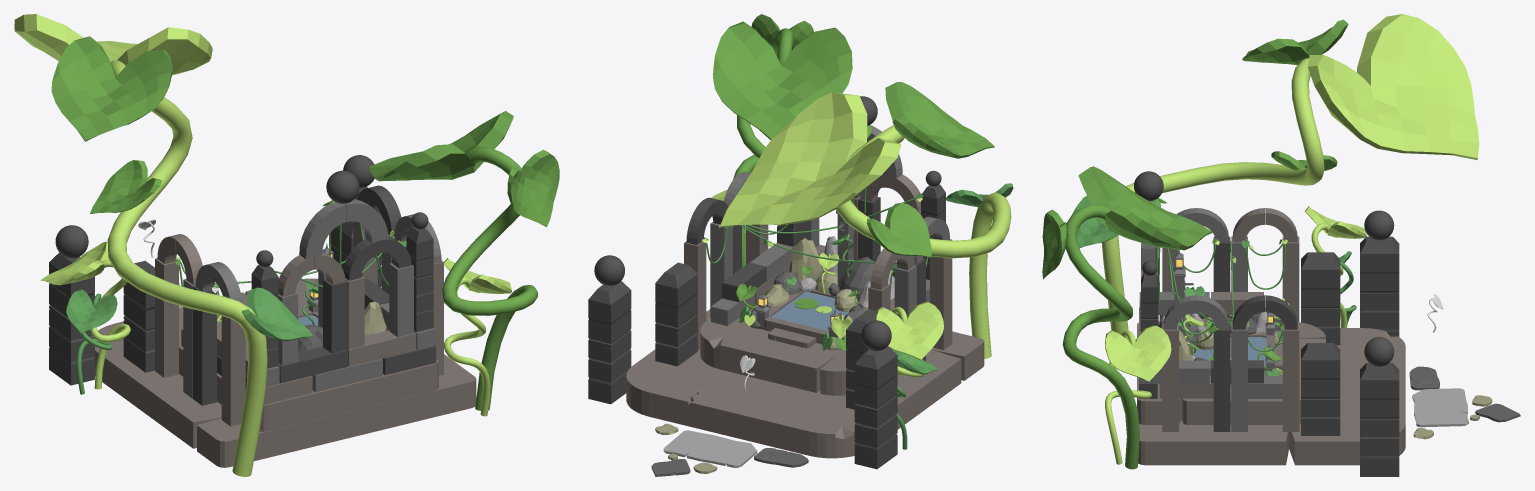
Rendered from temple.glb.
3 views of the same model, side by side, from view 1: azimuth 30°, elevation 25°; view 2: azimuth 150°, elevation 25°; view 3: azimuth 270°, elevation 25° (orthographic). The views are drawn at different scales.
Parts seen in each view (by area): view 1: Cube, BezierCurve.020, Plane.050, Cube.001, BezierCurve.018, Plane.045, Plane.043, Cube.002, Plane.051, Cube.051, Cube.022, Cube.033 (+35 smaller); view 2: Cube, Plane.045, Plane.043, Cube.001, BezierCurve.020, Cube.002, Cube.027, Plane.050, Cube.025, Plane.046, Plane.048, Cube.004 (+30 smaller); view 3: Plane.045, Cube, BezierCurve.020, BezierCurve.018, Plane.043, Cube.027, Cube.002, Cube.025, Cube.001, Cube.022, Plane.044, Plane.050 (+34 smaller).
Part boxes in pixels (x1,y1,x2,y2): Cube: [94, 278, 476, 467]; BezierCurve.020: [107, 60, 267, 476]; Plane.050: [51, 36, 172, 141]; Cube.001: [179, 295, 438, 431]; BezierCurve.018: [442, 147, 538, 410]; Plane.045: [14, 14, 212, 75]; Plane.043: [369, 111, 513, 181]; Cube.002: [49, 252, 94, 385]; Plane.051: [507, 149, 559, 226]; Cube.051: [299, 199, 388, 259]; Cube.022: [123, 260, 154, 372]; Cube.033: [221, 316, 245, 426]; Cube: [626, 309, 984, 458]; Plane.045: [719, 92, 901, 227]; Plane.043: [713, 21, 852, 139]; Cube.001: [700, 305, 892, 395]; BezierCurve.020: [836, 125, 1011, 358]; Cube.002: [854, 346, 897, 469]; Cube.027: [588, 281, 631, 404]; Plane.050: [885, 82, 994, 158]; Cube.025: [655, 262, 697, 366]; Plane.046: [876, 302, 943, 360]; Plane.048: [866, 202, 931, 257]; Cube.004: [663, 430, 757, 467]; Plane.045: [1307, 14, 1479, 159]; Cube: [1138, 328, 1405, 465]; BezierCurve.020: [1101, 58, 1368, 341]; BezierCurve.018: [1062, 204, 1139, 469]; Plane.043: [1078, 166, 1212, 250]; Cube.027: [1360, 363, 1399, 476]; Cube.002: [1360, 236, 1399, 336]; Cube.025: [1301, 343, 1340, 435]; Cube.001: [1137, 321, 1325, 424]; Cube.022: [1301, 252, 1340, 345]; Plane.044: [1105, 325, 1171, 381]; Plane.050: [1242, 19, 1348, 65].
Size of the model in its own units: 14.45 by 13.44 by 18.
